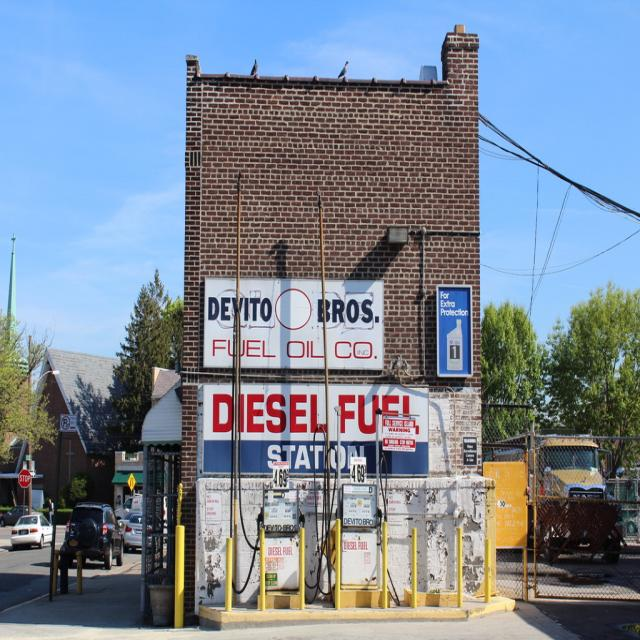other: (62, 490, 170, 566), (64, 500, 123, 565), (125, 511, 164, 555), (10, 514, 52, 548), (0, 506, 38, 526)
